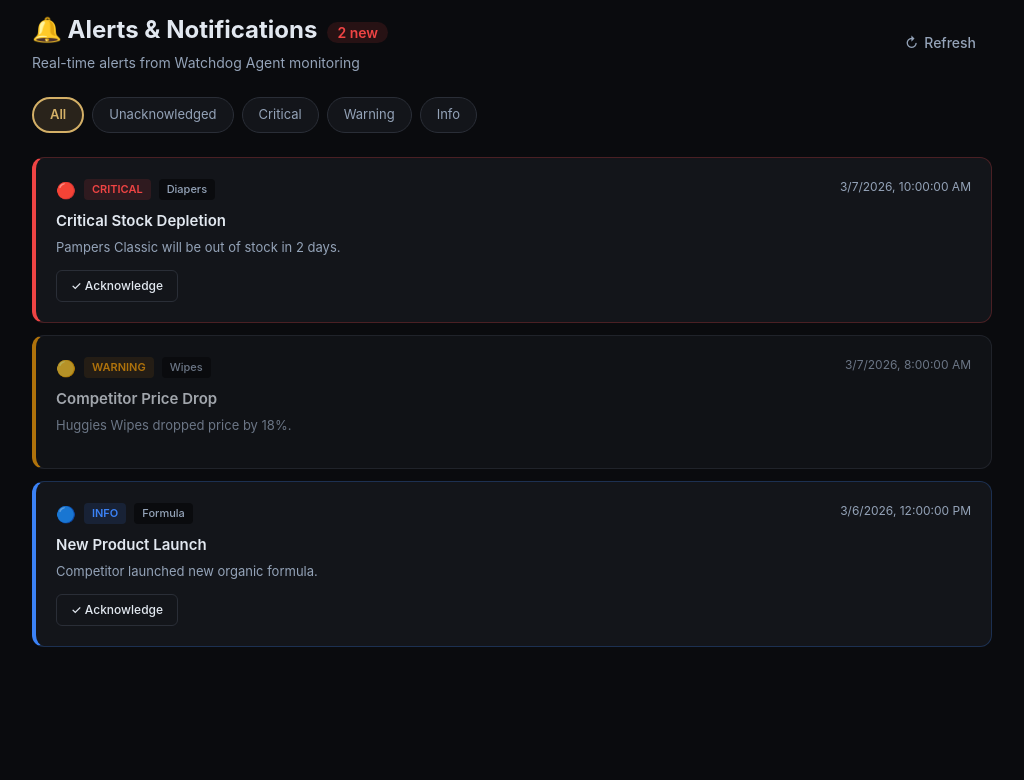
Test: Alerts page › filters by severity when critical filter is clicked
Expected: the heading "Critical Stock Depletion" is shown, [56,210,226,230]
Click the button "critical".
click(280, 115)  # box [242,97,319,132]
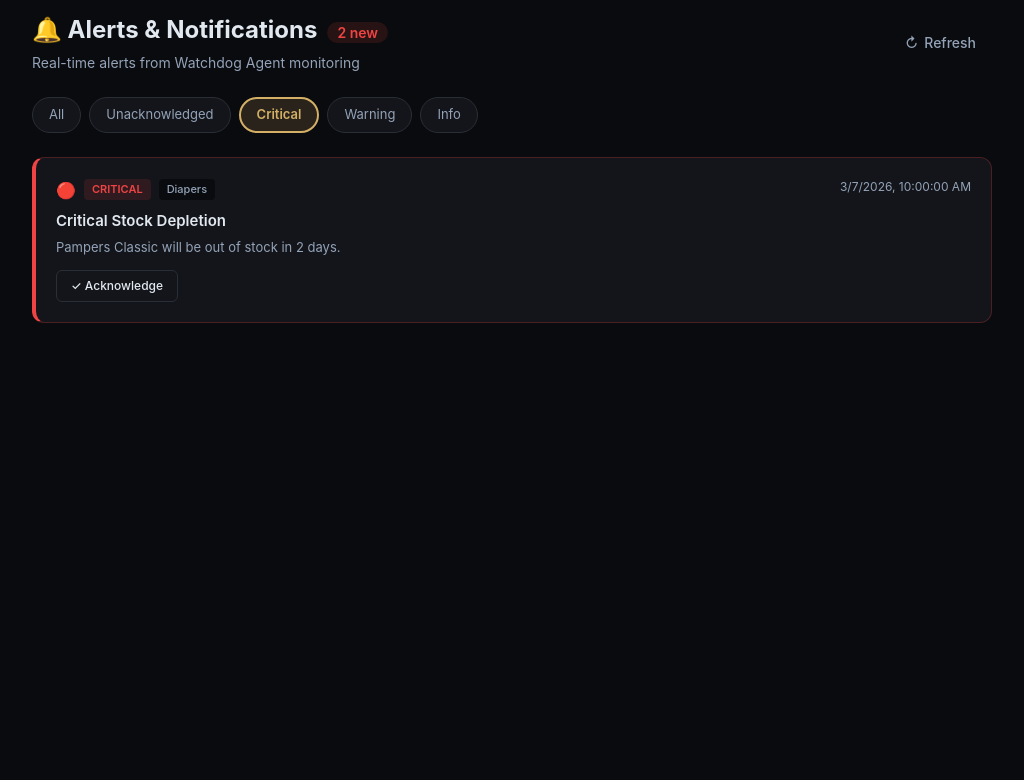
Expected: the heading "Critical Stock Depletion" is shown, [56,210,226,230]
Result: the heading "New Product Launch" is gone
